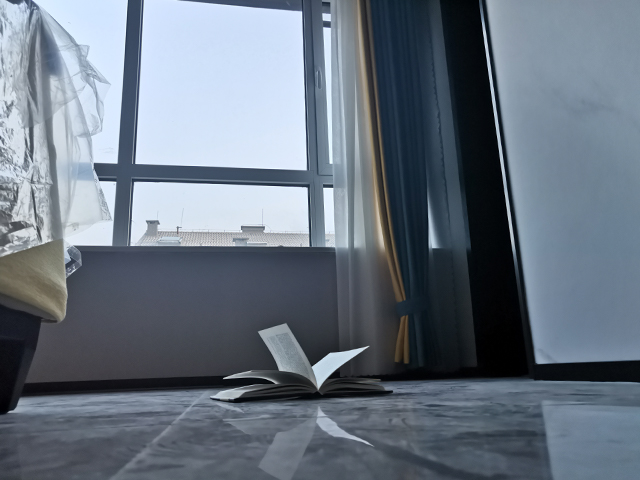book: (208, 321, 397, 404)
curtain: (328, 1, 482, 381)
